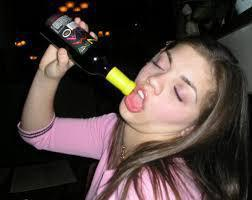Drunk: (125, 51, 206, 125)
